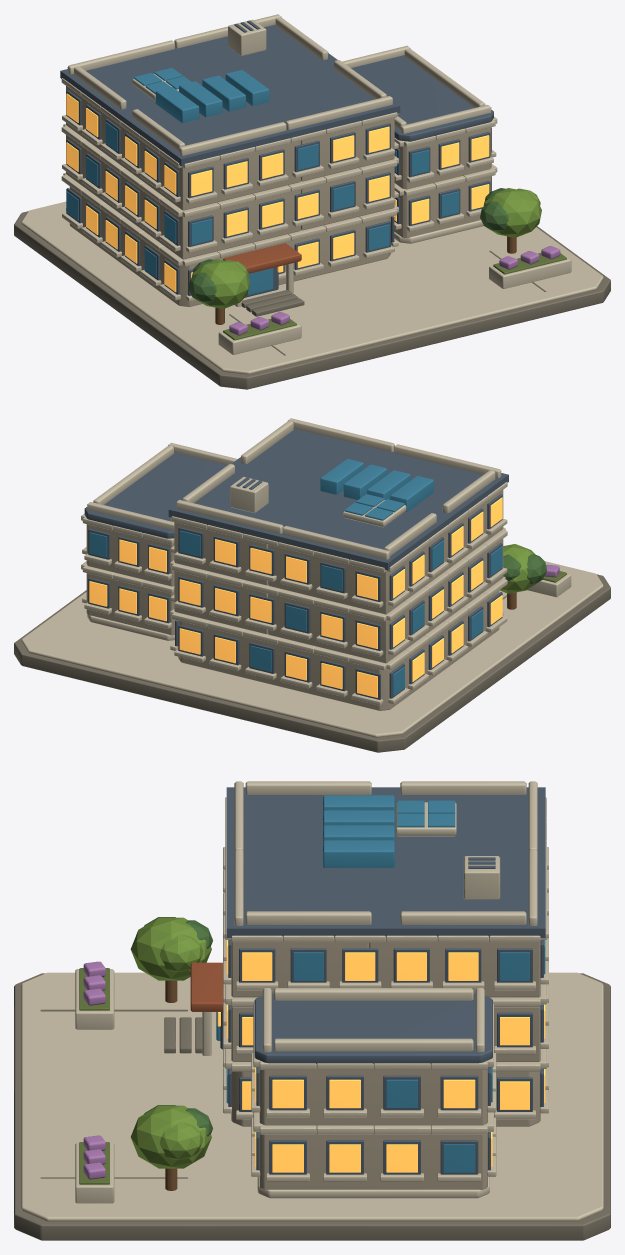
File: civilian-community-normal.glb
3 renders of one model, top to bottom at view 1: azimuth 30°, elevation 25°; view 2: azimuth 150°, elevation 25°; view 3: azimuth 270°, elevation 25°, orthographic. The views are drawn at different scales.
Parts seen in each view (by area): view 1: CivilianShell; view 2: CivilianShell; view 3: CivilianShell.
Part boxes in pixels (box(x1,y1,x2,y2)): CivilianShell: box(14, 14, 610, 389); CivilianShell: box(14, 418, 610, 752); CivilianShell: box(14, 781, 610, 1240).
Size of the model in its own units: 3.97 by 1.85 by 3.97.
